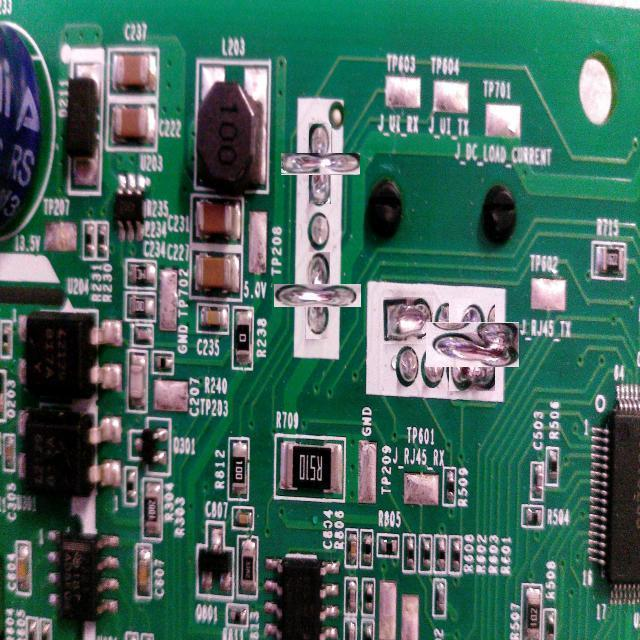Short_circuit: (438, 310, 507, 379), (290, 268, 346, 323), (295, 139, 346, 189), (383, 297, 433, 344)
